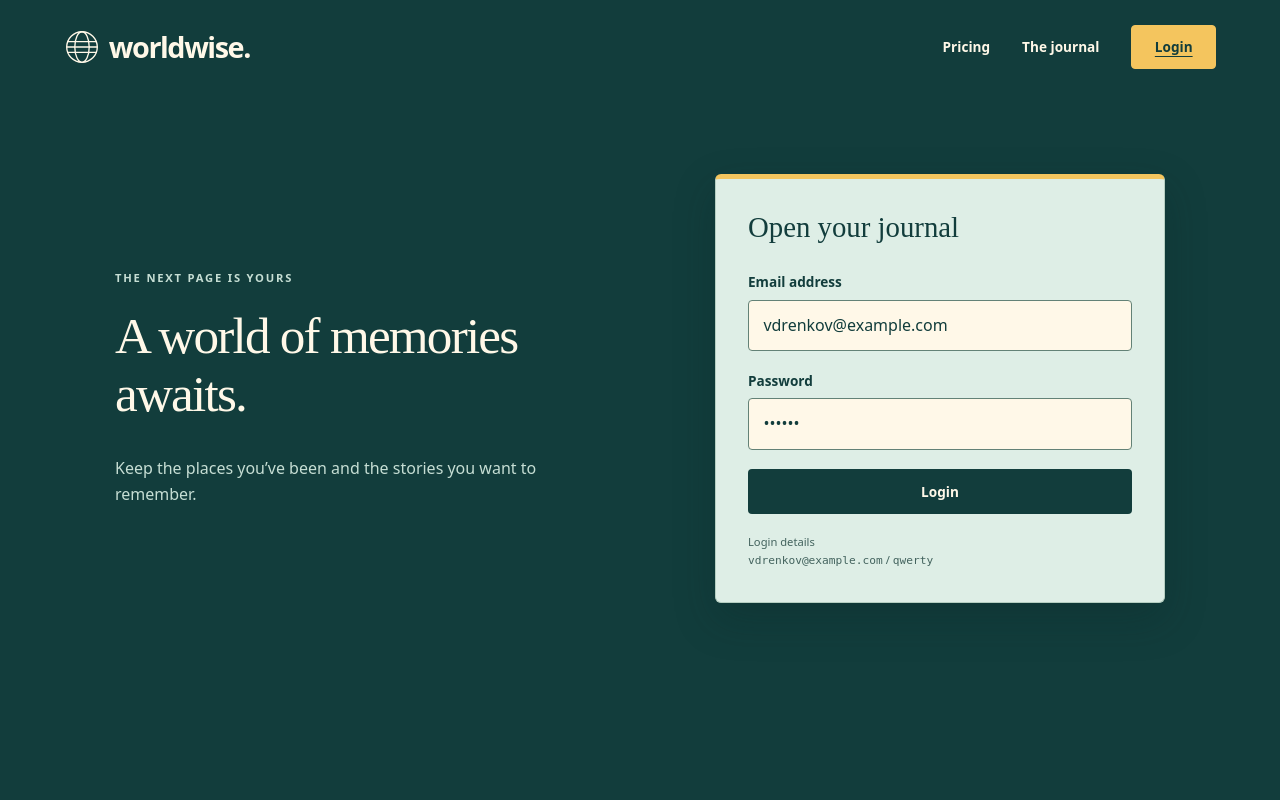
Scenario: Complete journal › loadMap_tilesFail_keepsCoordinateEntryAvailableAndRecovers
Later steps or results of the test are not shown.
Click the button "Login" at (940, 491), box [748,469,1132,514]
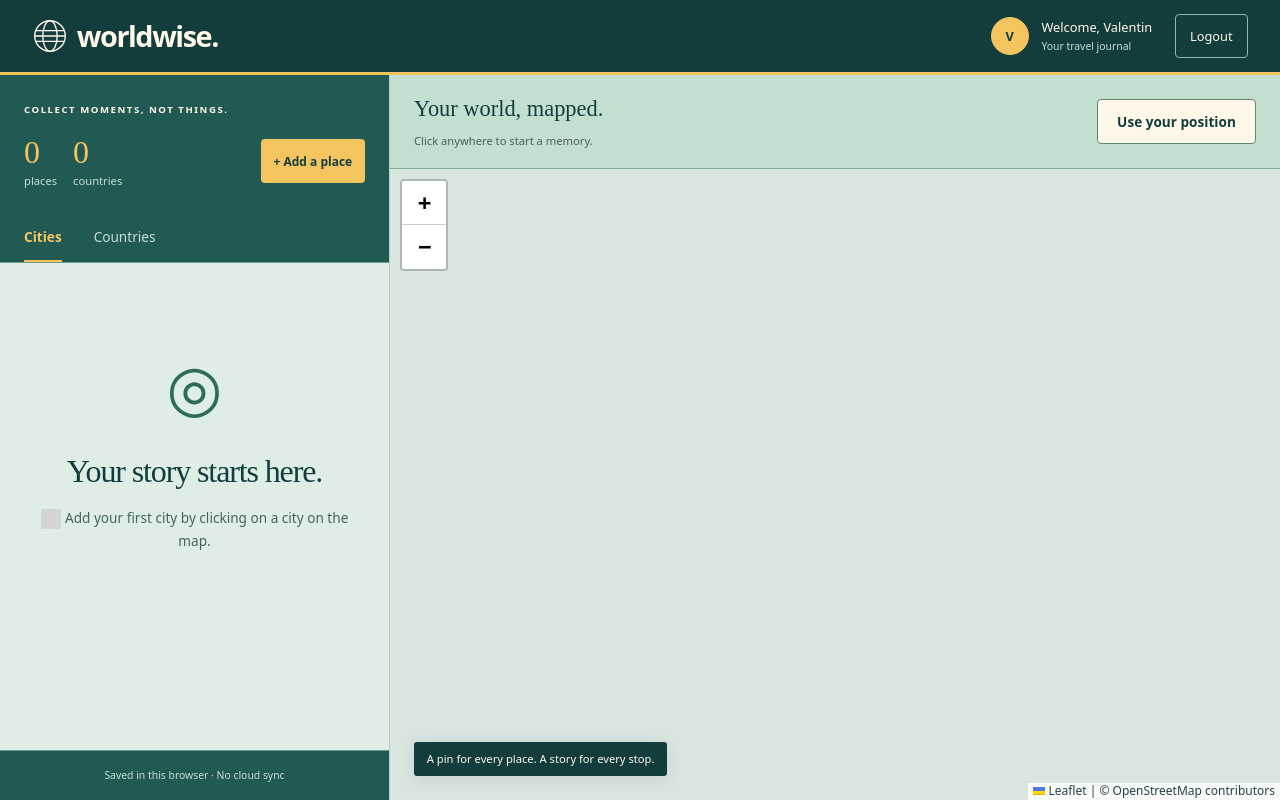
Check: the link "+ Add a place" is shown, box [261,139,365,183]
